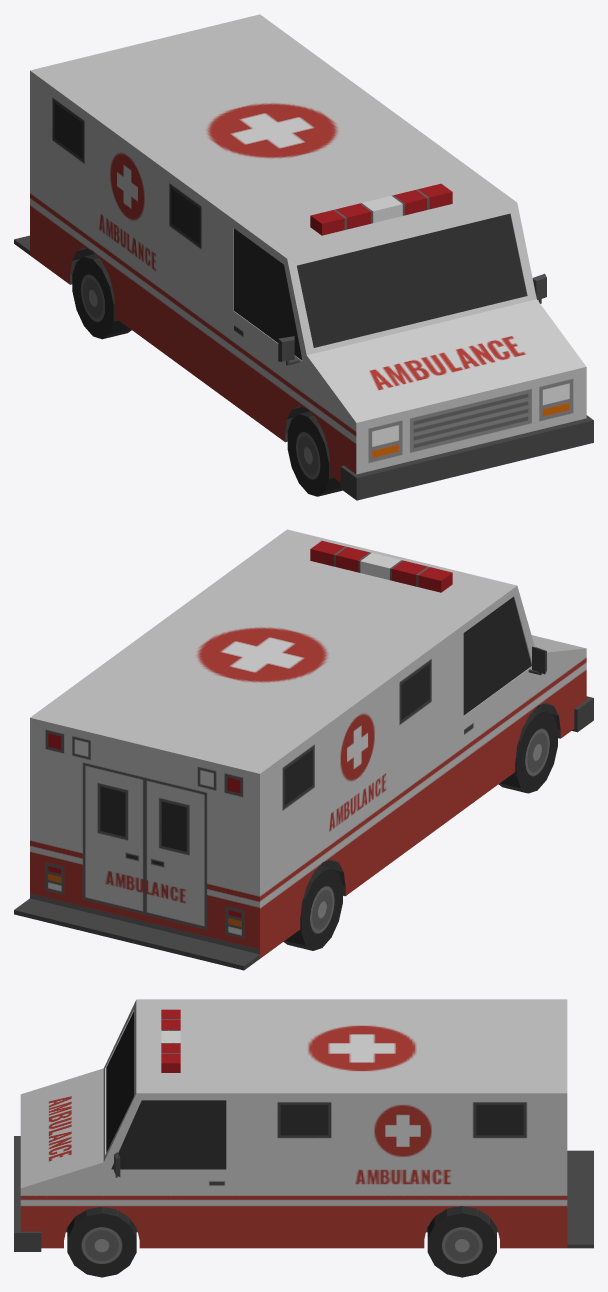
File: ambulance.glb
3 renders of one model, top to bottom at view 1: azimuth 30°, elevation 25°; view 2: azimuth 150°, elevation 25°; view 3: azimuth 270°, elevation 25°, orthographic. The views are drawn at different scales.
Parts seen in each view (by area): view 1: Body, RL, FL; view 2: Body, RL, FL; view 3: Body, RR, FR.
Boxes of the visible parts, x1,y1,x2,y2 form: Body: [14, 14, 593, 500]; RL: [72, 254, 131, 339]; FL: [287, 411, 342, 496]; Body: [14, 529, 593, 970]; RL: [283, 865, 342, 950]; FL: [498, 708, 557, 793]; Body: [14, 999, 593, 1251]; RR: [427, 1206, 496, 1277]; FR: [67, 1206, 136, 1277].
Bounding box in the file's own units: 3.41 × 2.84 × 7.68.
1 material, 1 textured.
